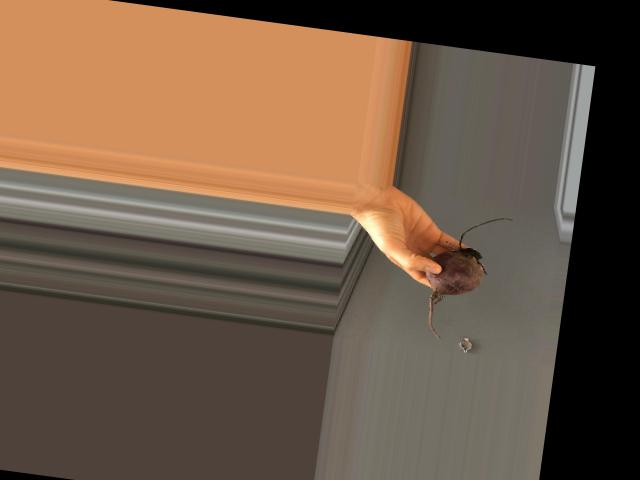beet: (417, 208, 514, 347)
